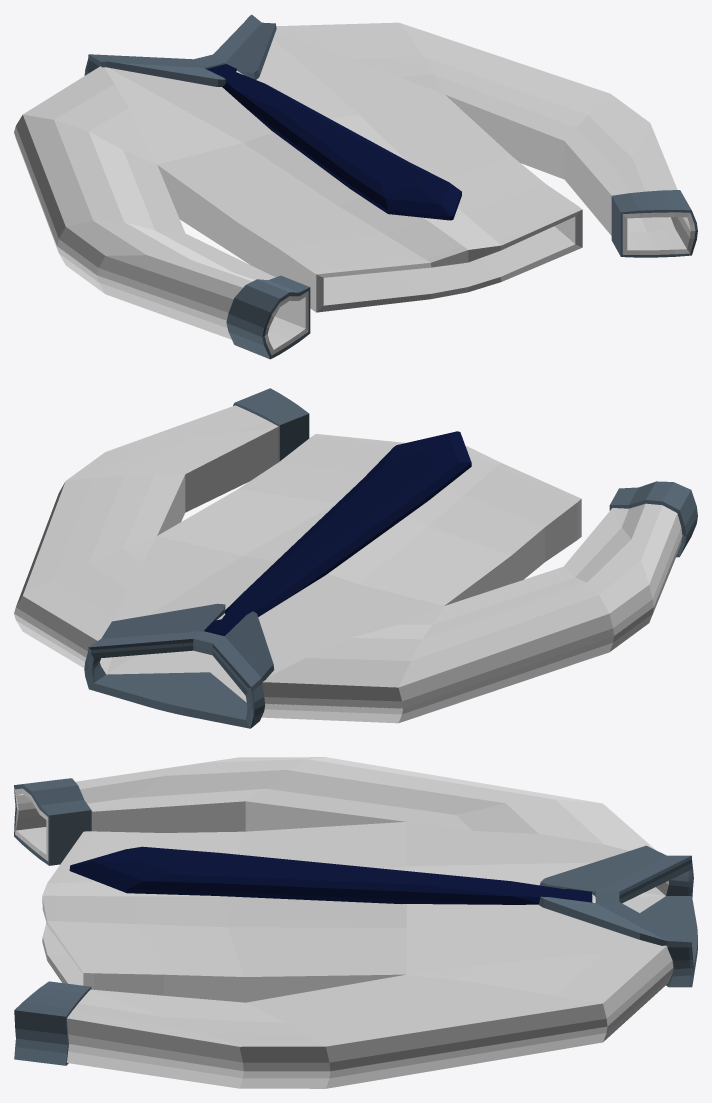
Rendered from Suit 1.fbx.
3 views of the same model, one above another, from view 1: azimuth 30°, elevation 25°; view 2: azimuth 150°, elevation 25°; view 3: azimuth 270°, elevation 25° (orthographic). The views are drawn at different scales.
Visible parts, largest first — view 1: Node 0; view 2: Node 0; view 3: Node 0.
Part boxes in pixels (x1,y1,x2,y2): Node 0: [14, 14, 697, 359]; Node 0: [14, 388, 697, 728]; Node 0: [14, 757, 697, 1088].
Bounding box in the file's own units: 1.07 × 0.1493 × 1.09.
